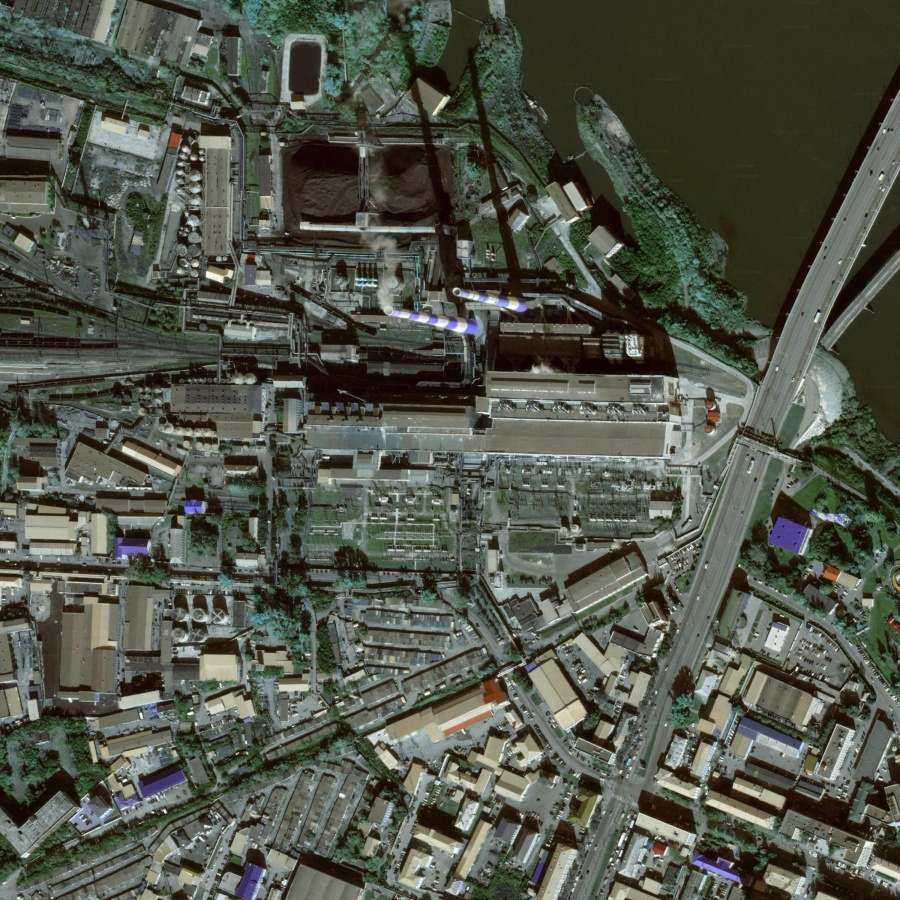PowerPlant: (262, 108, 666, 452)
